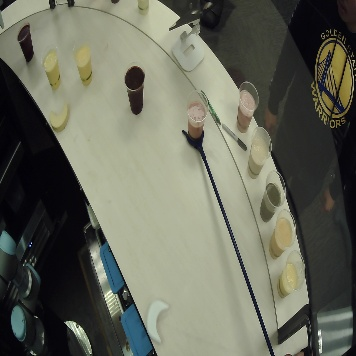full_cup: (121, 54, 149, 123), (182, 85, 210, 146), (232, 75, 260, 136), (245, 121, 273, 182), (259, 166, 287, 227), (268, 199, 296, 260), (278, 241, 306, 302), (40, 44, 66, 92), (70, 38, 96, 86), (15, 19, 37, 64), (128, 1, 154, 16)
puck: (144, 291, 173, 347), (48, 102, 72, 130)
